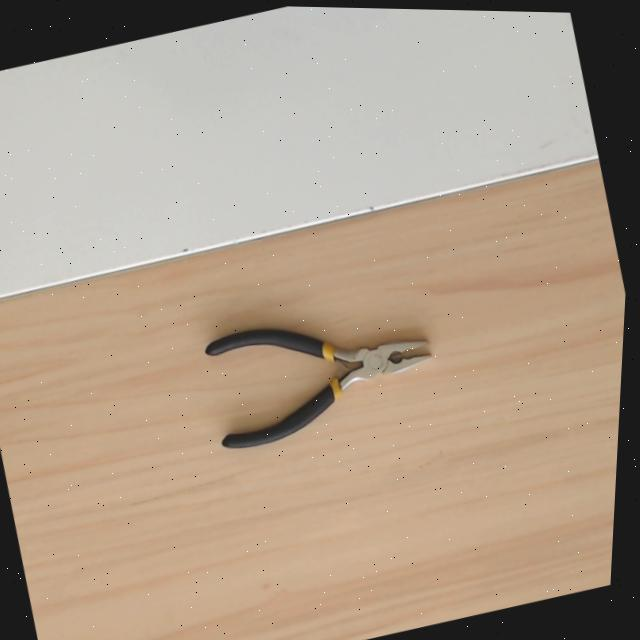Tang-Jepit-Hitam: (197, 292, 441, 452)
